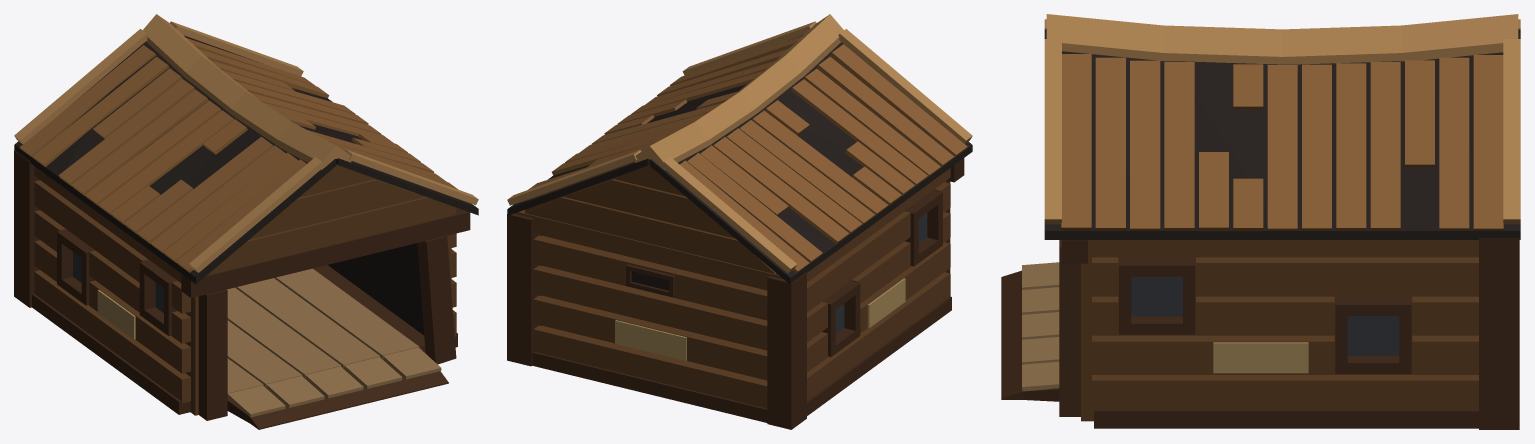
The model's file is shipwright-boat-shed-9cbbc1.glb.
The picture shows the model from 3 angles, left to right: view 1: azimuth 30°, elevation 25°; view 2: azimuth 150°, elevation 25°; view 3: azimuth 270°, elevation 25°; orthographic projection. The views are drawn at different scales.
Visible parts, largest first — view 1: boat-shed-shell; view 2: boat-shed-shell; view 3: boat-shed-shell.
Boxes of the visible parts, <box> form: boat-shed-shell: <box>14,14,478,429</box>; boat-shed-shell: <box>507,14,972,429</box>; boat-shed-shell: <box>1001,14,1520,429</box>.
Bounding box in the file's own units: 5 × 4.15 × 6.
